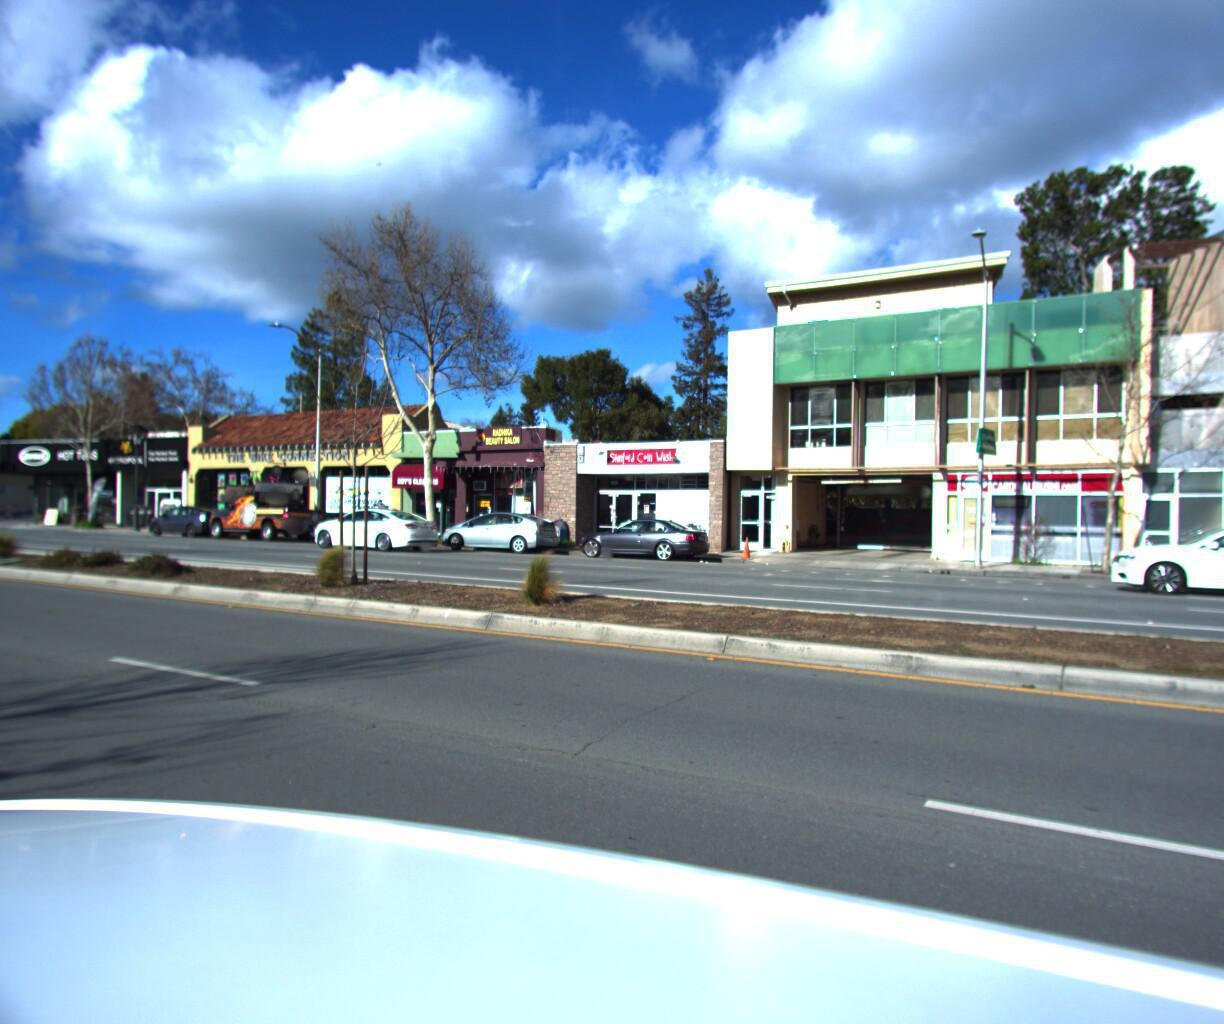bicycle: (4, 507, 25, 524)
car: (1114, 519, 1224, 606), (203, 471, 327, 542), (1120, 521, 1224, 595), (304, 502, 446, 554), (570, 518, 715, 565), (431, 510, 563, 555), (143, 506, 238, 539)
